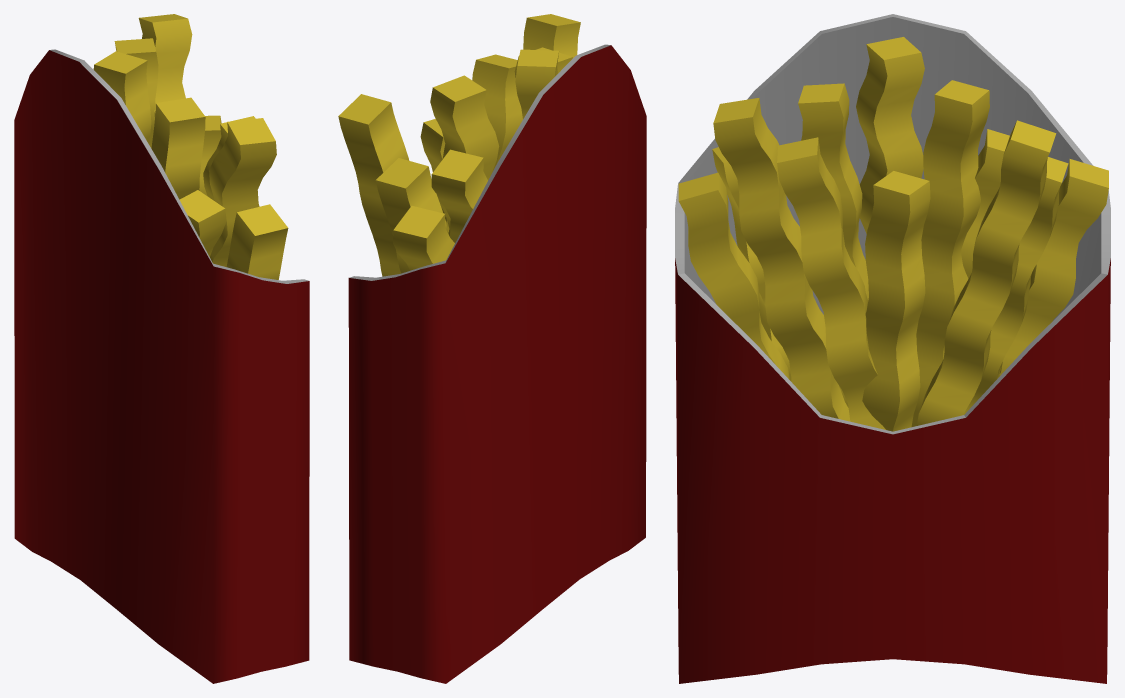
File: Fries.obj
3 renders of one model, left to right at view 1: azimuth 30°, elevation 25°; view 2: azimuth 150°, elevation 25°; view 3: azimuth 270°, elevation 25°, orthographic. The views are drawn at different scales.
Visible parts, largest first — view 1: pCylinder3; view 2: pCylinder3; view 3: pCylinder3.
Boxes of the visible parts, <box> form: pCylinder3: <box>14,14,309,683</box>; pCylinder3: <box>338,14,646,683</box>; pCylinder3: <box>675,14,1110,683</box>.
Bounding box in the file's own units: 0.9133 × 2.88 × 1.89.
